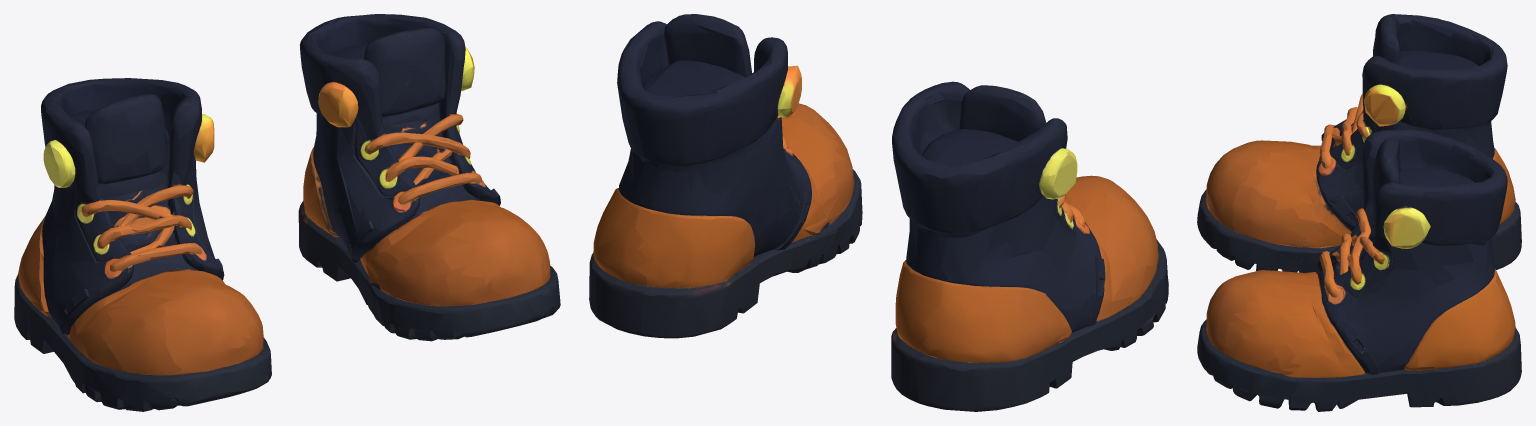
File: shoes_work_boots_01.glb
The picture shows the model from 3 angles, left to right: view 1: azimuth 30°, elevation 25°; view 2: azimuth 150°, elevation 25°; view 3: azimuth 270°, elevation 25°; orthographic projection. The views are drawn at different scales.
Bounding box in the file's own units: 1.9 × 0.9903 × 1.29.
1 material, 1 textured.
